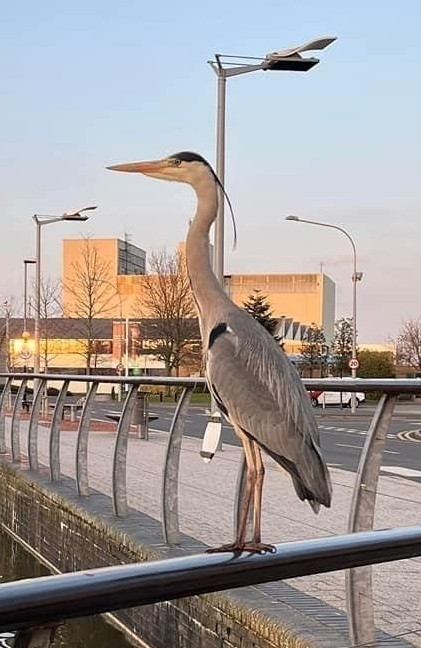heron: (101, 149, 338, 561)
